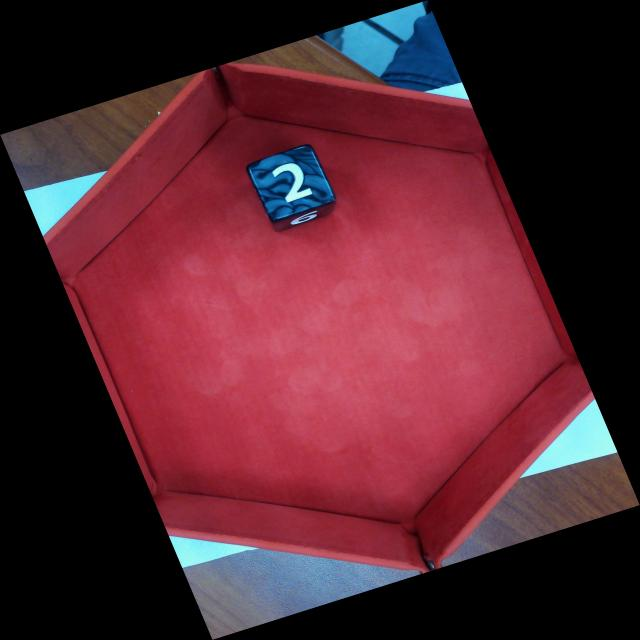dice: (244, 142, 338, 224)
